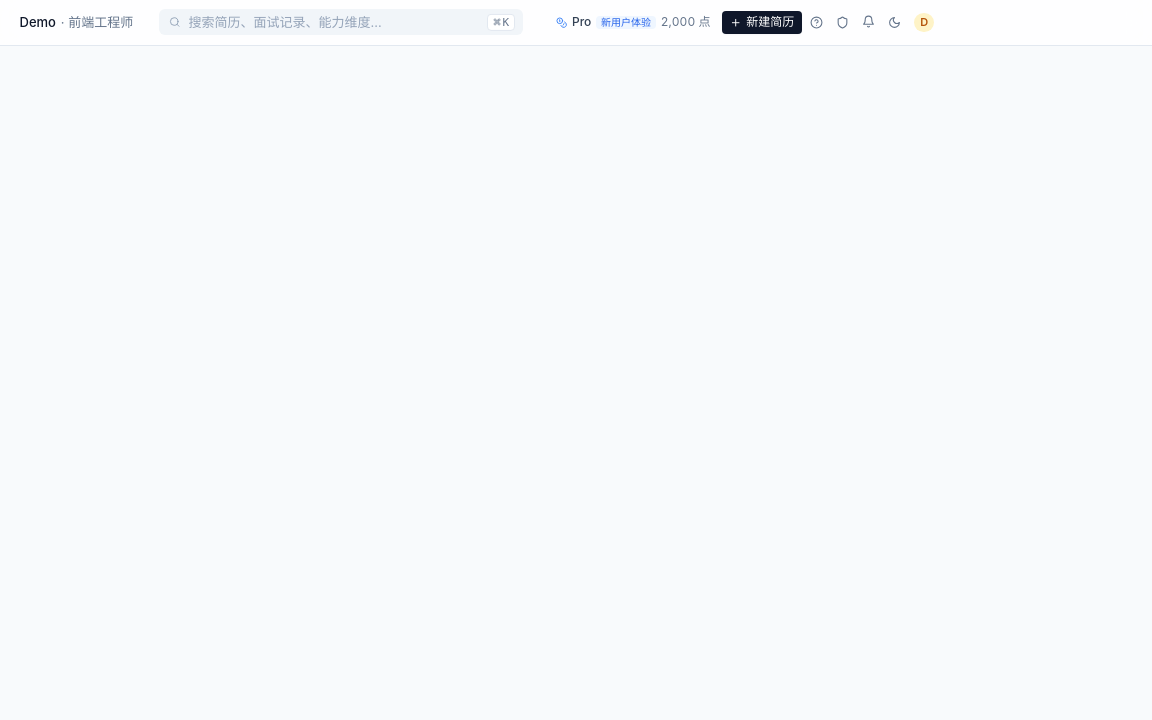
Test: Topbar current interaction contract › shows a truthful empty notification state without a fake unread dot
The image size is (1152, 720).
Click the button with test id "topbar-notifications-button": (869, 22) [858,11,880,33]
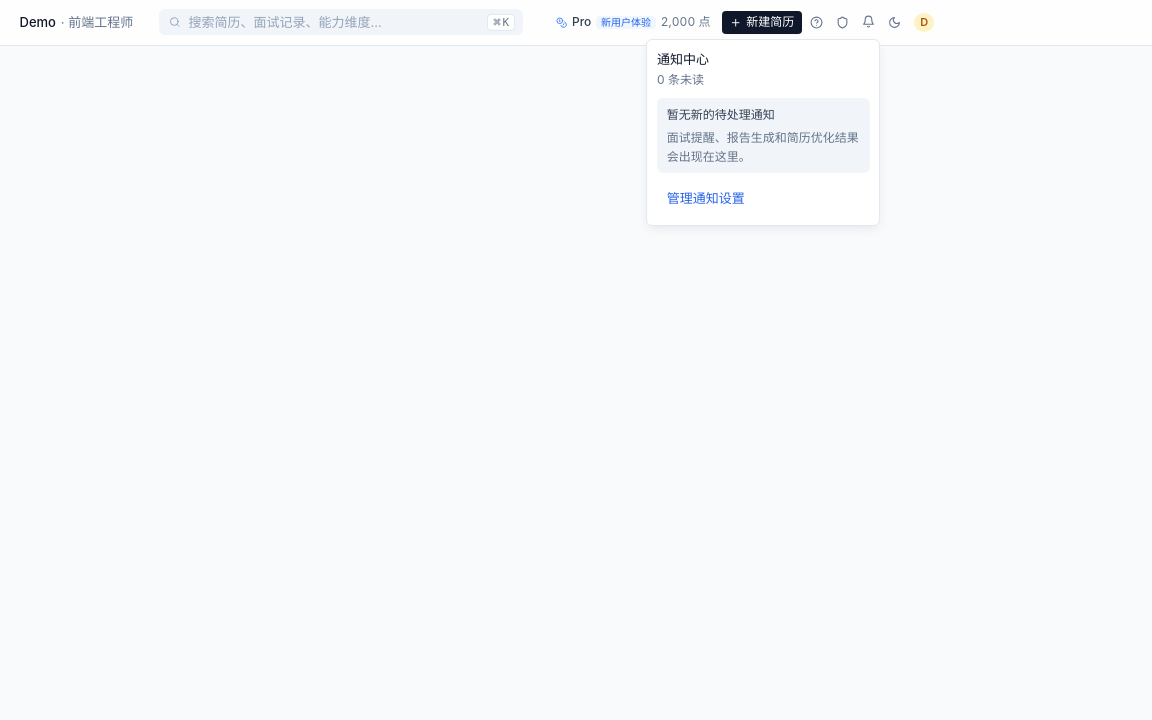
Check: the text "暂无新的待处理通知" is shown, box [667,107,775,122]
Check: the text "0 条未读" is shown, box [657,71,709,89]
